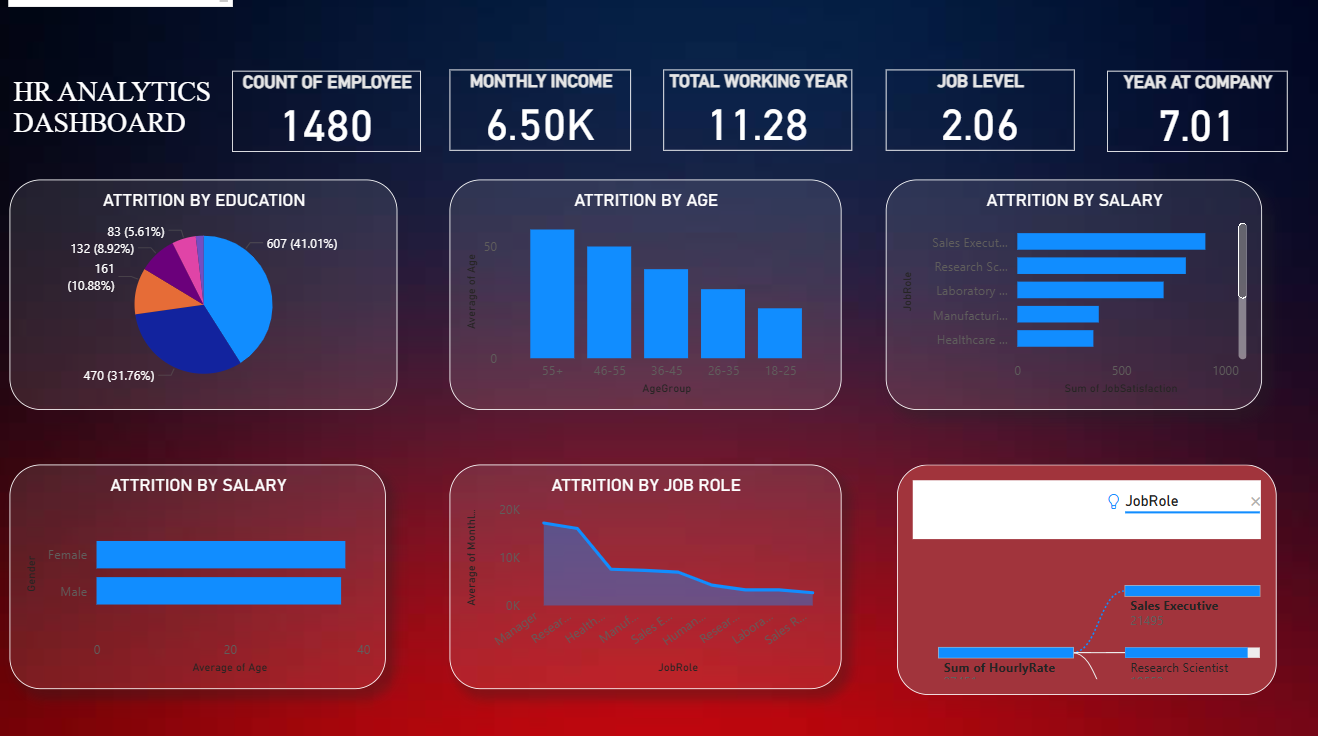

This screenshot's page, from the dashboard's own definition file:
{"tool":"powerbi","page":{"name":"Page 1","canvas":[1280,720],"ordinal":0},"visuals":[{"type":"card","title":"COUNT OF EMPLOYEE","fields":{"Values":["CountNonNull(HR_Analytics.EmpID)"]},"box":[231.7,75.4,182.3,78.1],"z":0},{"type":"card","title":"MONTHLY INCOME","fields":{"Values":["Avg(HR_Analytics.MonthlyIncome)"]},"box":[442,75.1,175.5,78.1],"z":3},{"type":"card","title":"TOTAL WORKING YEAR","fields":{"Values":["Avg(HR_Analytics.TotalWorkingYears)"]},"box":[647.7,75.1,182.3,78.1],"z":4},{"type":"card","title":"JOB LEVEL","fields":{"Values":["Avg(HR_Analytics.JobLevel)"]},"box":[862.9,75.1,182.3,78.1],"z":5},{"type":"card","title":"YEAR AT COMPANY","fields":{"Values":["Avg(HR_Analytics.YearsAtCompany)"]},"box":[1076.3,75.4,174.1,78.1],"z":6},{"type":"pieChart","title":"ATTRITION BY EDUCATION","fields":{"Y":["CountNonNull(HR_Analytics.EducationField)"],"Category":["HR_Analytics.EducationField"]},"box":[16.5,181,374.3,222.1],"z":7},{"type":"columnChart","title":"ATTRITION BY AGE","fields":{"Category":["HR_Analytics.AgeGroup"],"Y":["Avg(HR_Analytics.Age)"]},"box":[441.5,181,378.4,222.1],"z":8},{"type":"barChart","title":"ATTRITION BY SALARY","fields":{"Category":["HR_Analytics.Gender"],"Y":["Avg(HR_Analytics.Age)"]},"box":[16.5,456.6,363.3,216.6],"z":9},{"type":"barChart","title":"ATTRITION BY SALARY","fields":{"Category":["HR_Analytics.JobRole"],"Y":["Sum(HR_Analytics.JobSatisfaction)"]},"box":[862.4,181,363.3,222.1],"z":10},{"type":"areaChart","title":"ATTRITION BY JOB ROLE","fields":{"Category":["HR_Analytics.JobRole"],"Y":["Avg(HR_Analytics.MonthlyIncome)"]},"box":[441.5,456.6,378.4,216.6],"z":11},{"type":"decompositionTreeVisual","fields":{"ExplainBy":["HR_Analytics.JobRole"],"Analyze":["Sum(HR_Analytics.HourlyRate)"]},"box":[873.4,456.6,366.1,222.1],"z":12},{"type":"textbox","box":[15.1,2.7,216.6,12.3],"z":13},{"type":"textbox","box":[15.1,75.4,216.6,78.1],"z":14}]}

Visuals, with their boxes in screenshot pixels (x1, y1, x2, y2), scaled from the page's 1280x720 canvas onto the 1318x736 screenshot:
"COUNT OF EMPLOYEE" card: 239 77 426 157
"MONTHLY INCOME" card: 455 77 636 157
"TOTAL WORKING YEAR" card: 667 77 855 157
"JOB LEVEL" card: 889 77 1076 157
"YEAR AT COMPANY" card: 1108 77 1288 157
"ATTRITION BY EDUCATION" pieChart: 17 185 402 412
"ATTRITION BY AGE" columnChart: 455 185 844 412
"ATTRITION BY SALARY" barChart: 17 467 391 688
"ATTRITION BY SALARY" barChart: 888 185 1262 412
"ATTRITION BY JOB ROLE" areaChart: 455 467 844 688
decompositionTreeVisual - HR_Analytics.JobRole x Sum(HR_Analytics.HourlyRate): 899 467 1276 694
textbox: 16 3 239 15
textbox: 16 77 239 157
